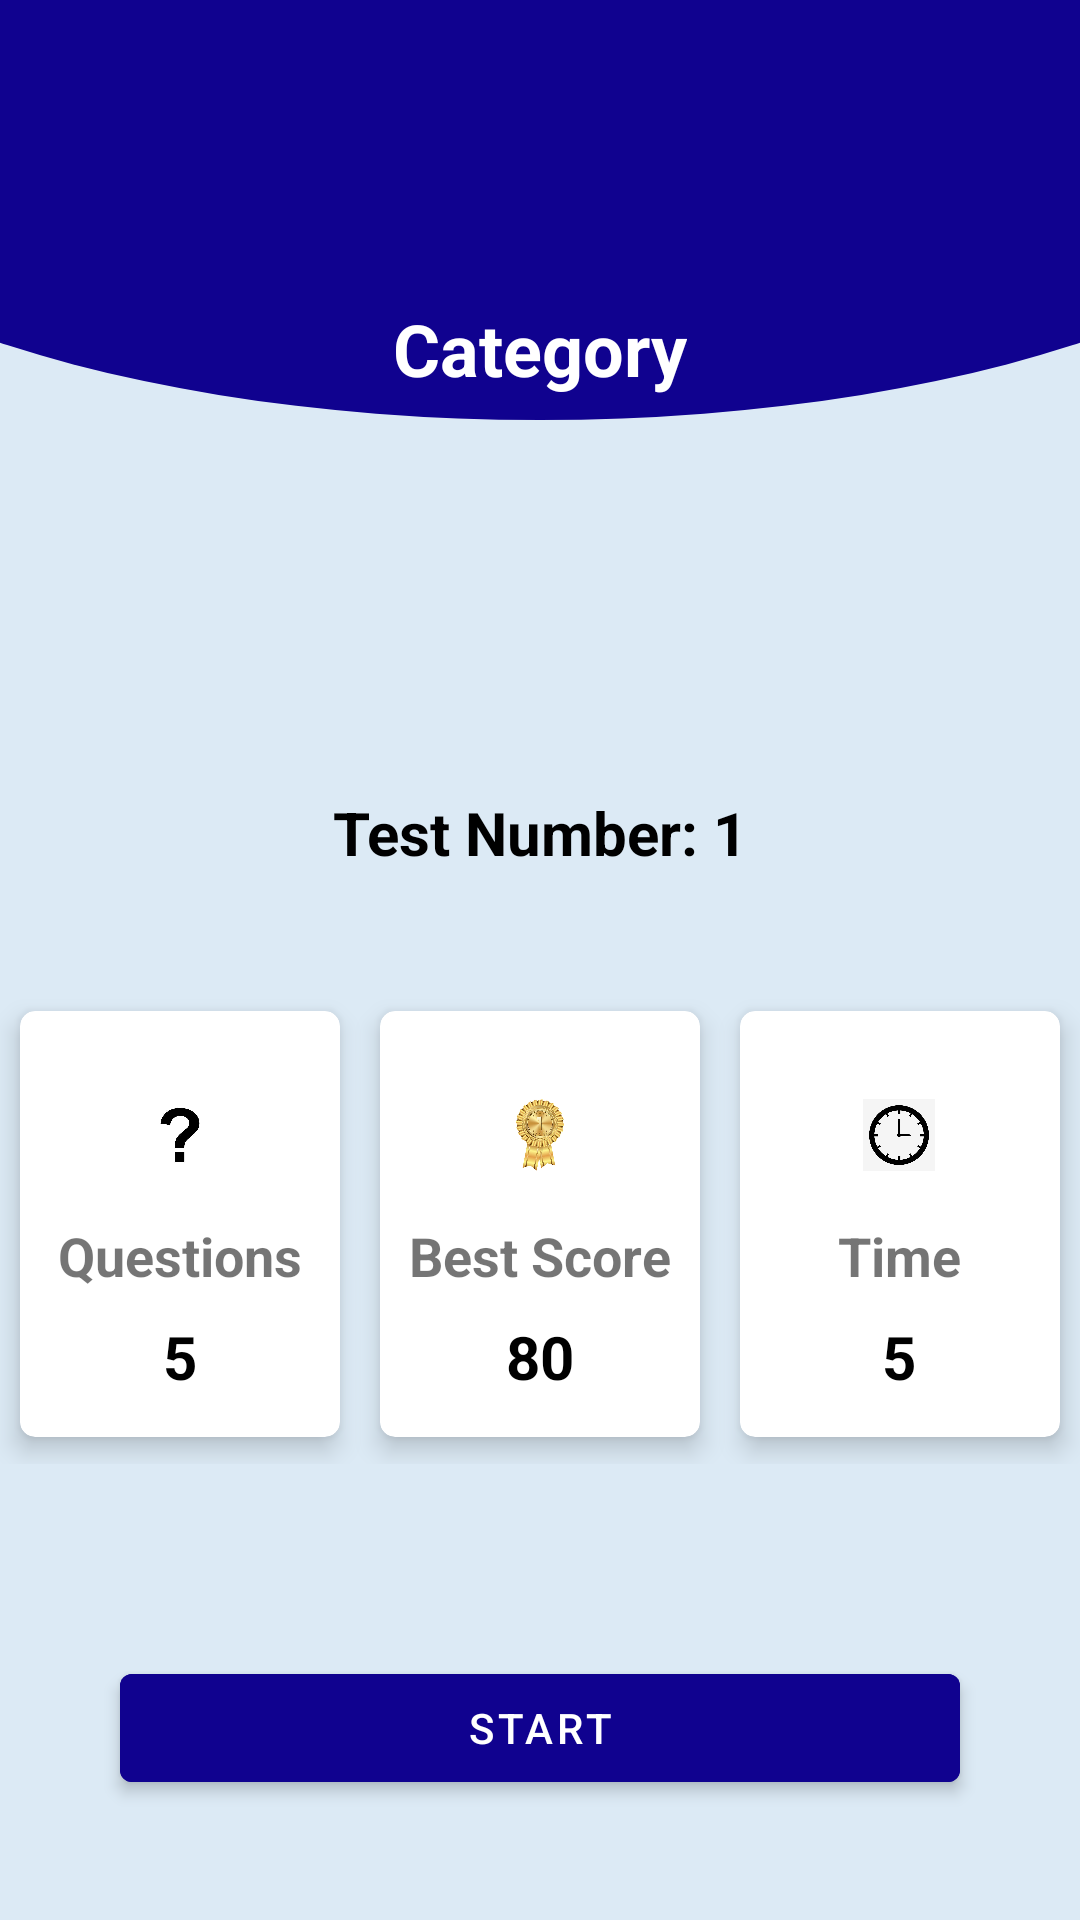

Icon bounding boxes for this 1080×1920 phone screenshot, format region(x1, y1, x2, y2):
award: region(516, 1099, 564, 1171)
clock: region(863, 1099, 935, 1171)
